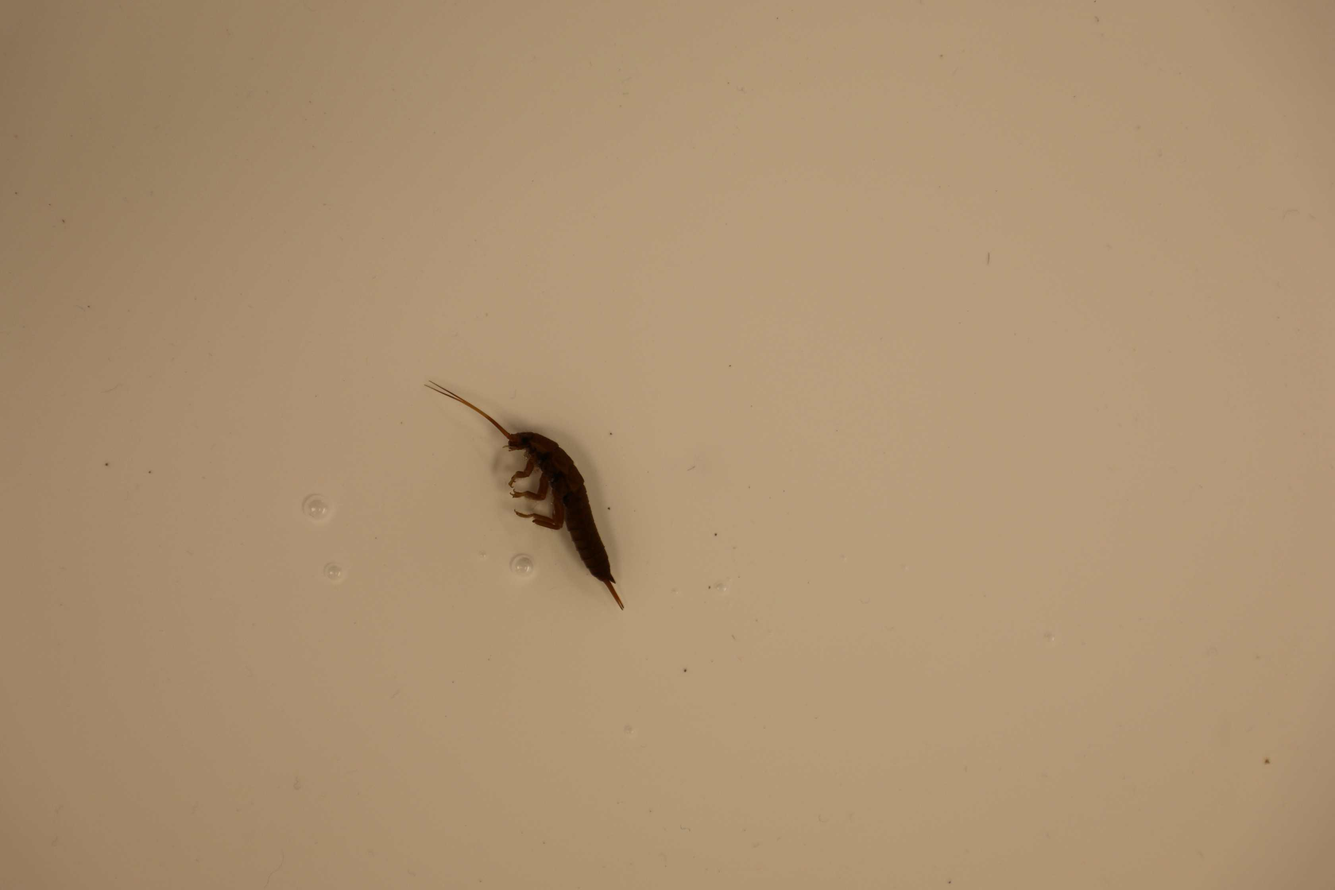Stonefly: (418, 373, 629, 614)
